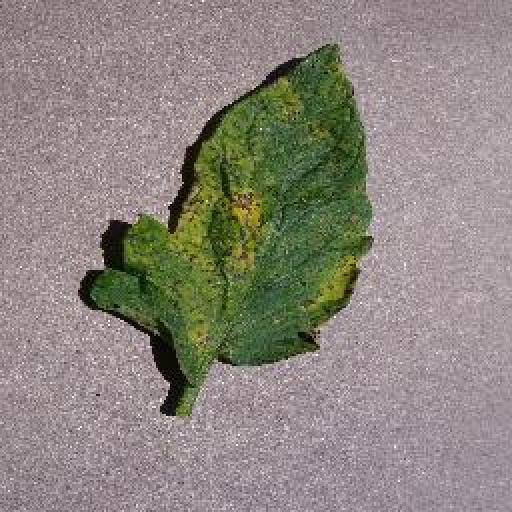Septoria: (87, 42, 376, 370)
